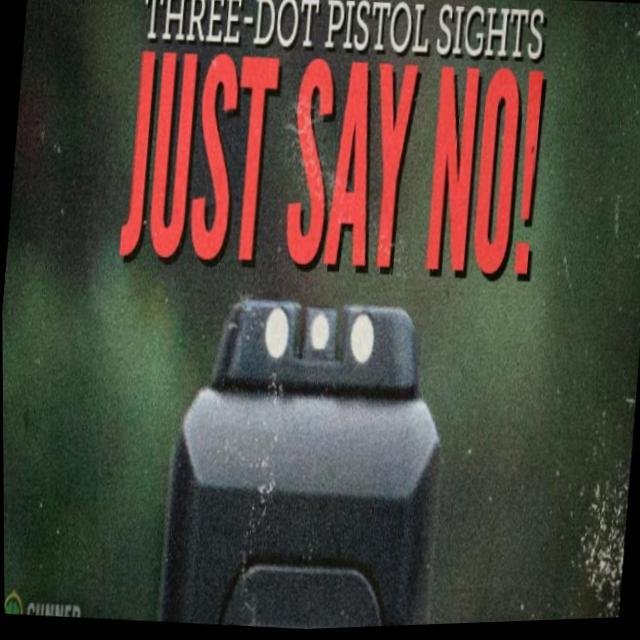weapon: (153, 284, 454, 636)
